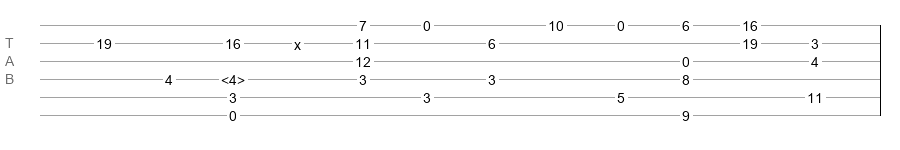0: (229, 108, 237, 118), (423, 18, 431, 28), (617, 18, 625, 28), (682, 54, 690, 64)
10: (548, 18, 564, 28)
11: (355, 36, 371, 46), (807, 90, 823, 100)
12: (355, 54, 371, 64)
16: (225, 36, 241, 46), (742, 18, 758, 28)
19: (96, 36, 112, 46), (742, 36, 758, 46)
3: (229, 90, 237, 100), (359, 72, 367, 82), (423, 90, 431, 100), (488, 72, 496, 82), (811, 36, 819, 46)
4: (165, 72, 173, 82), (811, 54, 819, 64)
5: (617, 90, 625, 100)
6: (488, 36, 496, 46), (682, 18, 690, 28)
7: (359, 18, 367, 28)
8: (682, 72, 690, 82)
9: (682, 108, 690, 118)
harmonic: (221, 72, 245, 82)
x: (294, 37, 301, 45)
